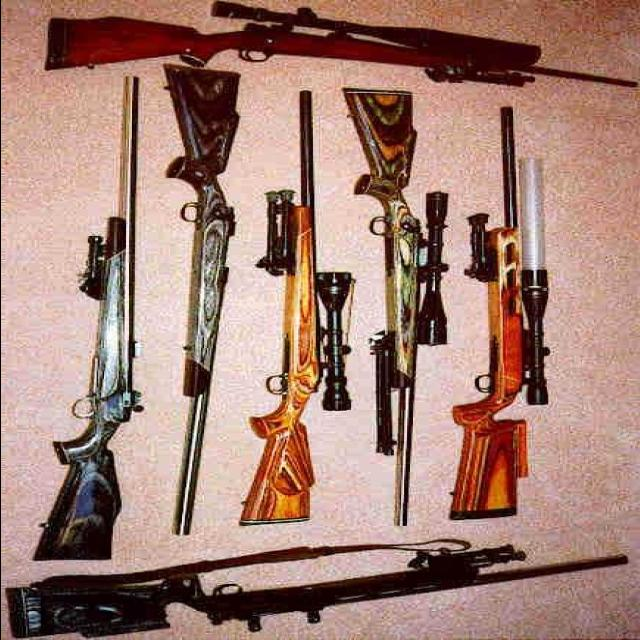heavyweapon: (1, 49, 156, 568), (12, 533, 640, 640), (13, 1, 640, 103), (231, 91, 368, 533), (156, 50, 259, 545), (431, 104, 550, 532), (343, 68, 447, 537)
